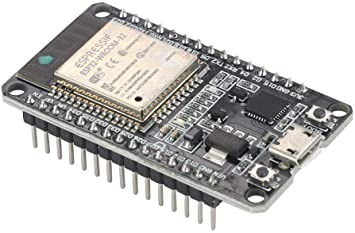ESP32-WROOM: (0, 0, 355, 233)
